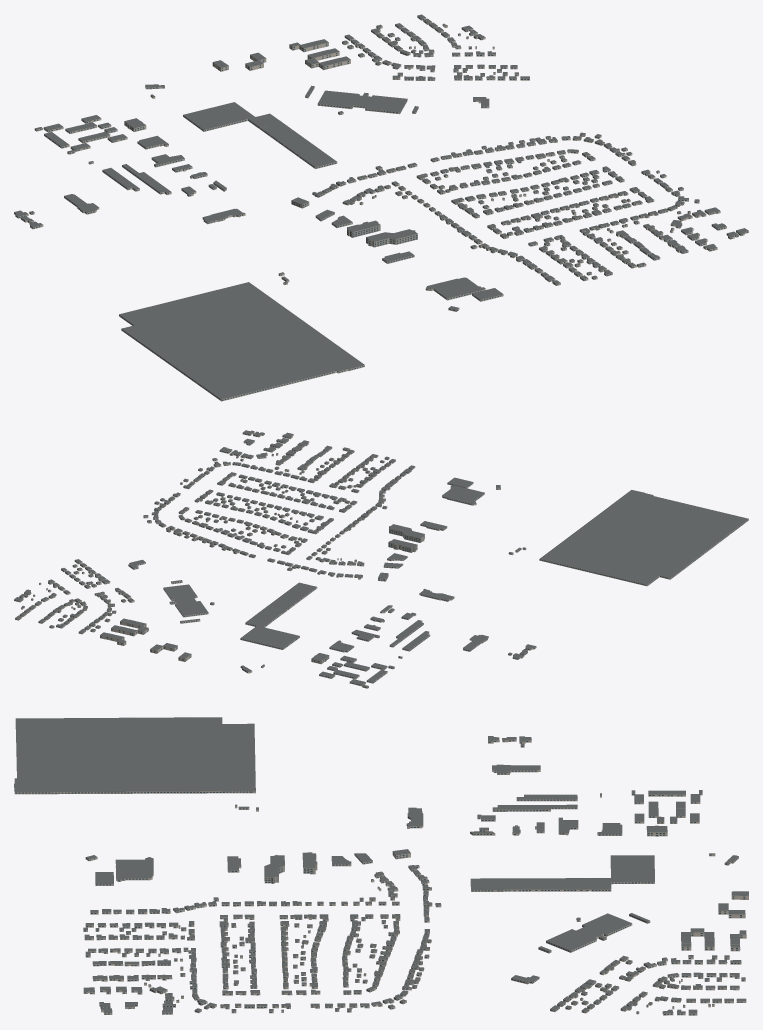
3 views of the same model, one above another, from view 1: azimuth 30°, elevation 25°; view 2: azimuth 150°, elevation 25°; view 3: azimuth 270°, elevation 25° (orthographic). The views are drawn at different scales.
Parts seen in each view (by area): view 1: Buildings (-1, -6) Roof membrane, Buildings (-1, -6) Masonry brick, Buildings (-1, -6) Architectural tinted glass, Buildings (-1, -6) Metal coping; view 2: Buildings (-1, -6) Roof membrane, Buildings (-1, -6) Masonry brick, Buildings (-1, -6) Architectural tinted glass; view 3: Buildings (-1, -6) Roof membrane, Buildings (-1, -6) Masonry brick, Buildings (-1, -6) Architectural tinted glass, Buildings (-1, -6) Metal coping.
Part boxes in pixels (<box>): Buildings (-1, -6) Roof membrane: <box>14,14,748,399</box>; Buildings (-1, -6) Masonry brick: <box>14,16,748,401</box>; Buildings (-1, -6) Architectural tinted glass: <box>14,16,747,400</box>; Buildings (-1, -6) Metal coping: <box>16,18,738,394</box>; Buildings (-1, -6) Roof membrane: <box>14,430,748,686</box>; Buildings (-1, -6) Masonry brick: <box>14,431,748,688</box>; Buildings (-1, -6) Architectural tinted glass: <box>14,432,747,687</box>; Buildings (-1, -6) Roof membrane: <box>14,717,748,1013</box>; Buildings (-1, -6) Masonry brick: <box>14,727,748,1015</box>; Buildings (-1, -6) Architectural tinted glass: <box>14,728,745,1015</box>; Buildings (-1, -6) Metal coping: <box>15,717,746,1013</box>.
Size of the model in its own units: 1061 by 12.29 by 1115.
